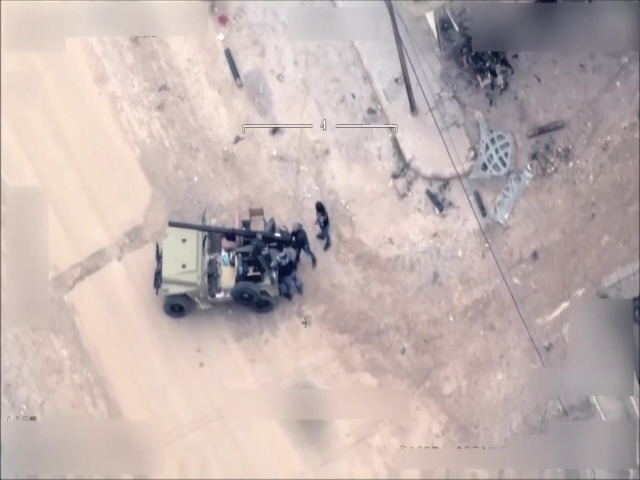person: (273, 240, 309, 301), (288, 219, 320, 274), (312, 196, 332, 253)
vehicle: (153, 217, 285, 314)
